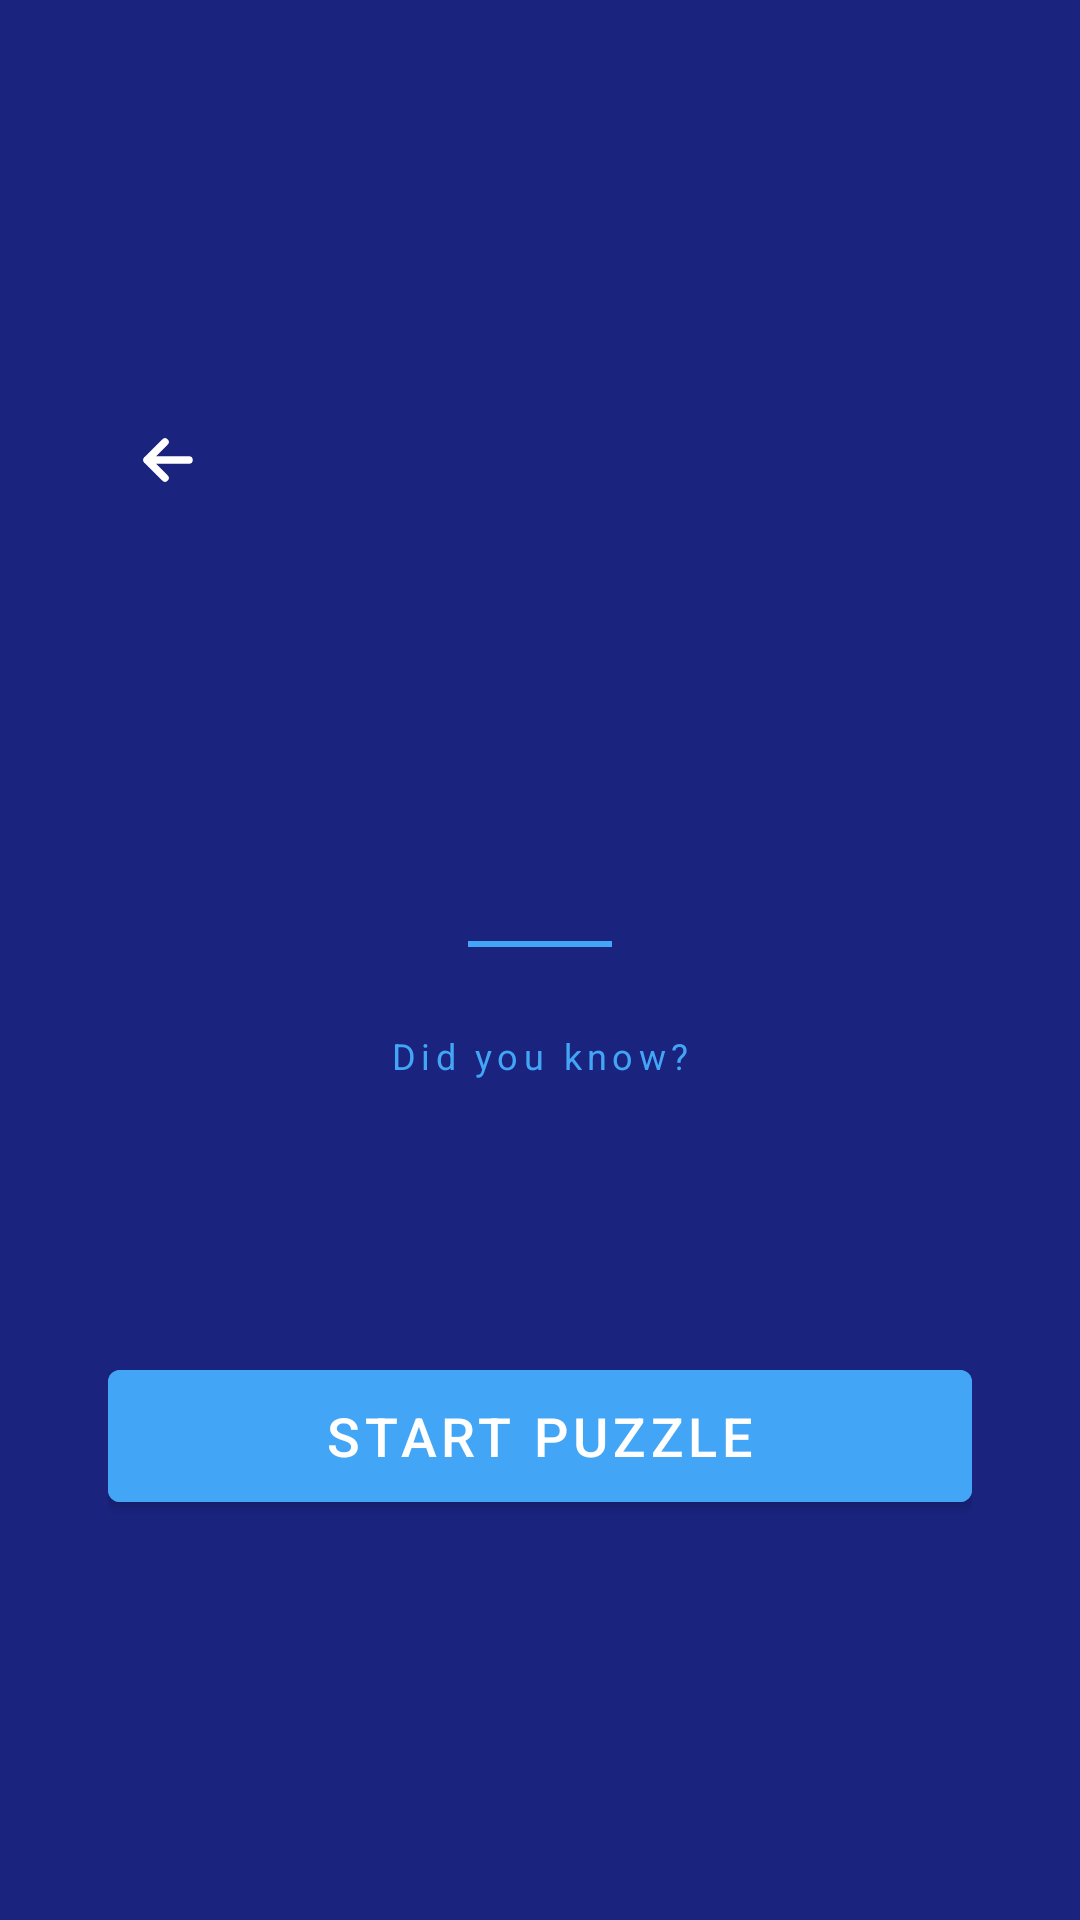

Screen size 1080 × 1920. Icon name, then its center in pixels as [x,y]:
Back: [168,460]
